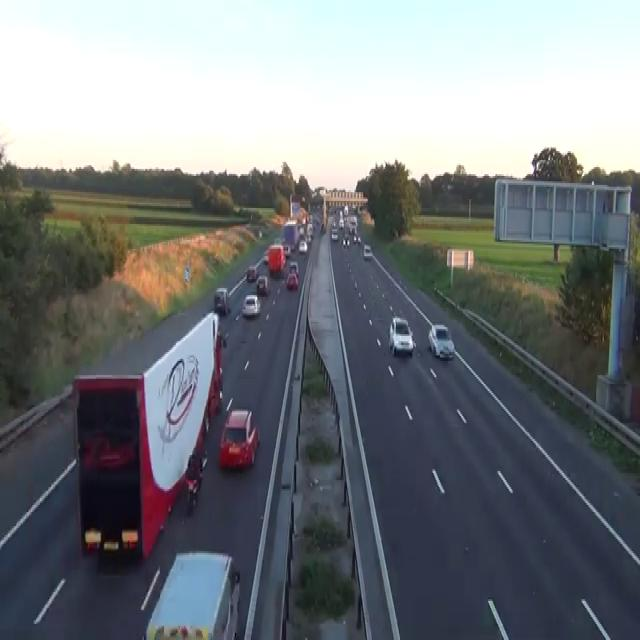Car: (280, 492, 365, 638), (77, 389, 139, 473), (218, 407, 259, 469), (80, 429, 138, 471), (206, 311, 223, 416), (185, 448, 208, 507), (388, 316, 415, 356), (189, 416, 208, 469), (428, 324, 454, 359), (185, 455, 201, 494), (213, 286, 229, 315), (241, 294, 260, 316), (83, 528, 101, 551), (274, 236, 291, 256), (256, 274, 268, 295), (285, 272, 298, 290), (246, 265, 257, 281), (288, 260, 299, 276), (363, 243, 372, 260), (298, 240, 307, 252), (282, 244, 291, 256), (262, 249, 269, 263), (342, 235, 350, 247), (331, 228, 338, 240), (353, 233, 361, 243), (274, 237, 282, 246), (338, 218, 344, 228), (298, 226, 304, 236), (331, 220, 337, 230), (446, 183, 454, 190), (320, 222, 325, 233), (353, 234, 357, 242), (259, 230, 262, 238)
Truck: (71, 311, 223, 560), (142, 550, 240, 638), (282, 218, 299, 250), (267, 244, 285, 274)
